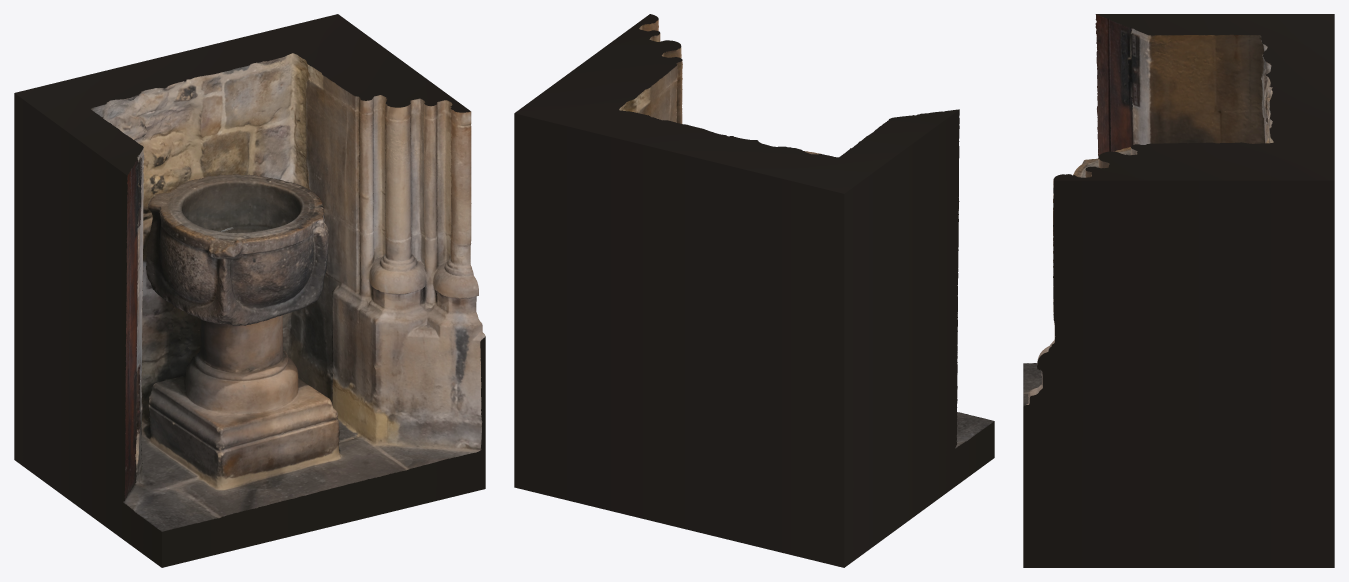
The model's file is st_etheldredas_church_mortar.glb.
The picture shows the model from 3 angles, left to right: view 1: azimuth 30°, elevation 25°; view 2: azimuth 150°, elevation 25°; view 3: azimuth 270°, elevation 25°; orthographic projection. The views are drawn at different scales.
Visible parts, largest first — view 1: Object_3, Object_5, Object_4, Object_6; view 2: Object_2, Object_3, Object_4; view 3: Object_3, Object_4, Object_5, Object_6.
Part boxes in pixels (<box>): Object_3: <box>14,14,485,567</box>; Object_5: <box>97,56,481,498</box>; Object_4: <box>123,70,467,530</box>; Object_6: <box>127,153,379,480</box>; Object_2: <box>514,113,844,567</box>; Object_3: <box>515,14,994,567</box>; Object_4: <box>634,23,989,447</box>; Object_3: <box>1023,14,1334,567</box>; Object_4: <box>1023,33,1264,399</box>; Object_5: <box>1029,36,1271,394</box>; Object_6: <box>1097,17,1231,155</box>.
Size of the model in its own units: 34.77 by 37.66 by 27.45.
1 material, 1 textured.
